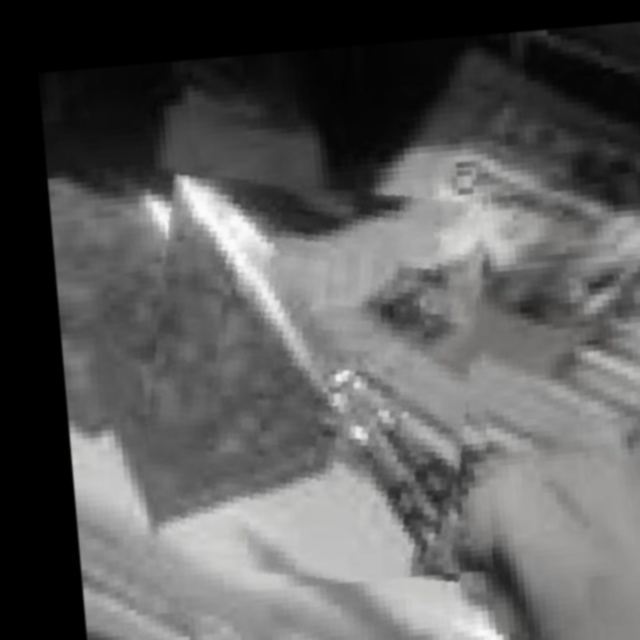Sharp-Object: (127, 160, 506, 598)
